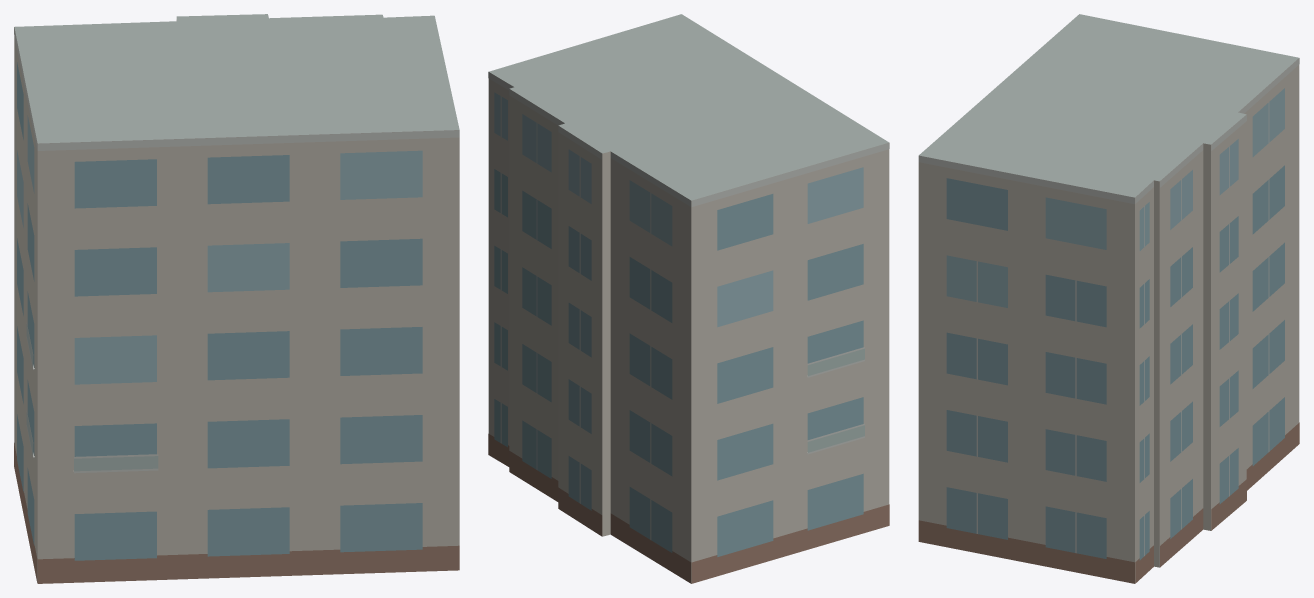
The model's file is survey-upis-32637820.glb.
The picture shows the model from 3 angles, left to right: view 1: azimuth 30°, elevation 25°; view 2: azimuth 150°, elevation 25°; view 3: azimuth 270°, elevation 25°; orthographic projection. The views are drawn at different scales.
Visible parts, largest first — view 1: survey-upis-32637820.tmp; view 2: survey-upis-32637820.tmp; view 3: survey-upis-32637820.tmp.
Boxes of the visible parts, x1,y1,x2,y2 form: survey-upis-32637820.tmp: [14, 14, 459, 583]; survey-upis-32637820.tmp: [488, 14, 889, 583]; survey-upis-32637820.tmp: [918, 14, 1299, 583].
Bounding box in the file's own units: 14.49 × 14.2 × 12.7.
